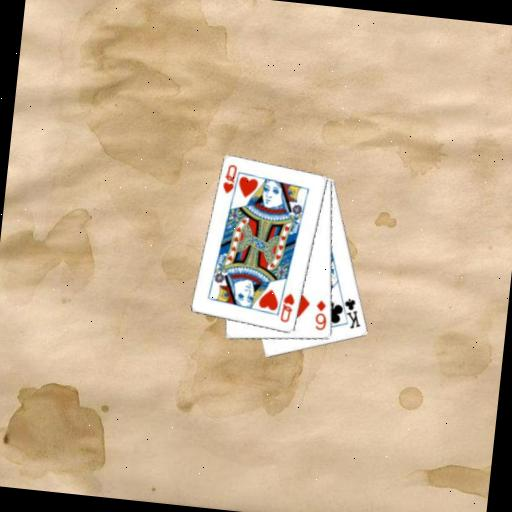6D: (311, 297, 330, 333)
KC: (335, 294, 365, 332)
QH: (219, 161, 243, 201), (278, 289, 298, 325)
